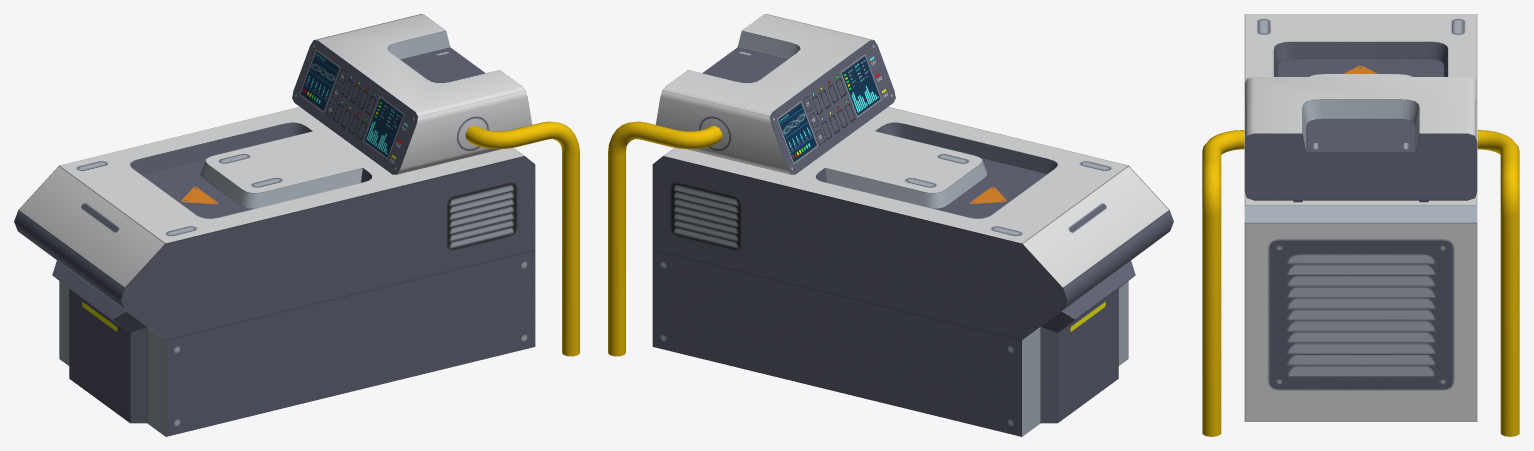
The model's file is Desktop_Part_01.FBX.
3 views of the same model, side by side, from view 1: azimuth 30°, elevation 25°; view 2: azimuth 150°, elevation 25°; view 3: azimuth 270°, elevation 25° (orthographic). The views are drawn at different scales.
Parts seen in each view (by area): view 1: Desktop_Part_01; view 2: Desktop_Part_01; view 3: Desktop_Part_01.
Part boxes in pixels (x1,y1,x2,y2): Desktop_Part_01: [14, 14, 579, 436]; Desktop_Part_01: [608, 14, 1173, 436]; Desktop_Part_01: [1202, 14, 1519, 436].
Bounding box in the file's own units: 2.4 × 1.34 × 1.36.
